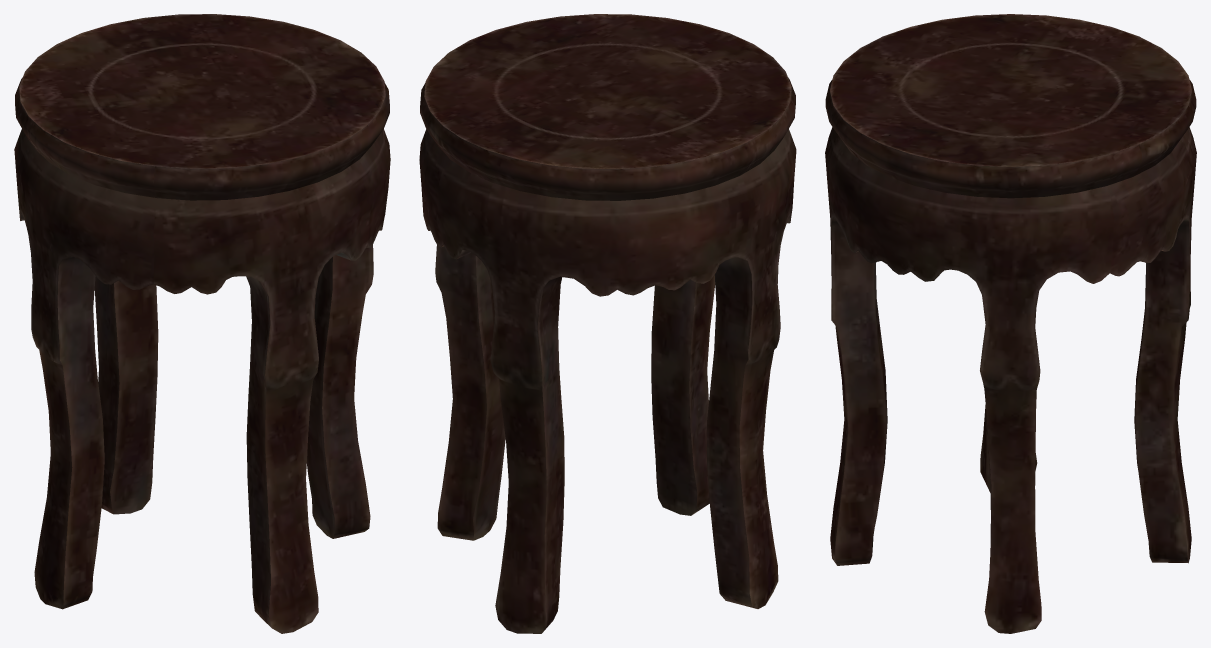
The model's file is WoodenTable_02.glb.
The picture shows the model from 3 angles, left to right: view 1: azimuth 30°, elevation 25°; view 2: azimuth 150°, elevation 25°; view 3: azimuth 270°, elevation 25°; orthographic projection.
Parts seen in each view (by area): view 1: WoodenTable_02; view 2: WoodenTable_02; view 3: WoodenTable_02.
Part boxes in pixels (x1,y1,x2,y2): WoodenTable_02: (14,14,390,633); WoodenTable_02: (419,14,796,633); WoodenTable_02: (825,14,1196,633).
Size of the model in its own units: 0.3007 by 0.4177 by 0.3007.
1 material, 1 textured.
